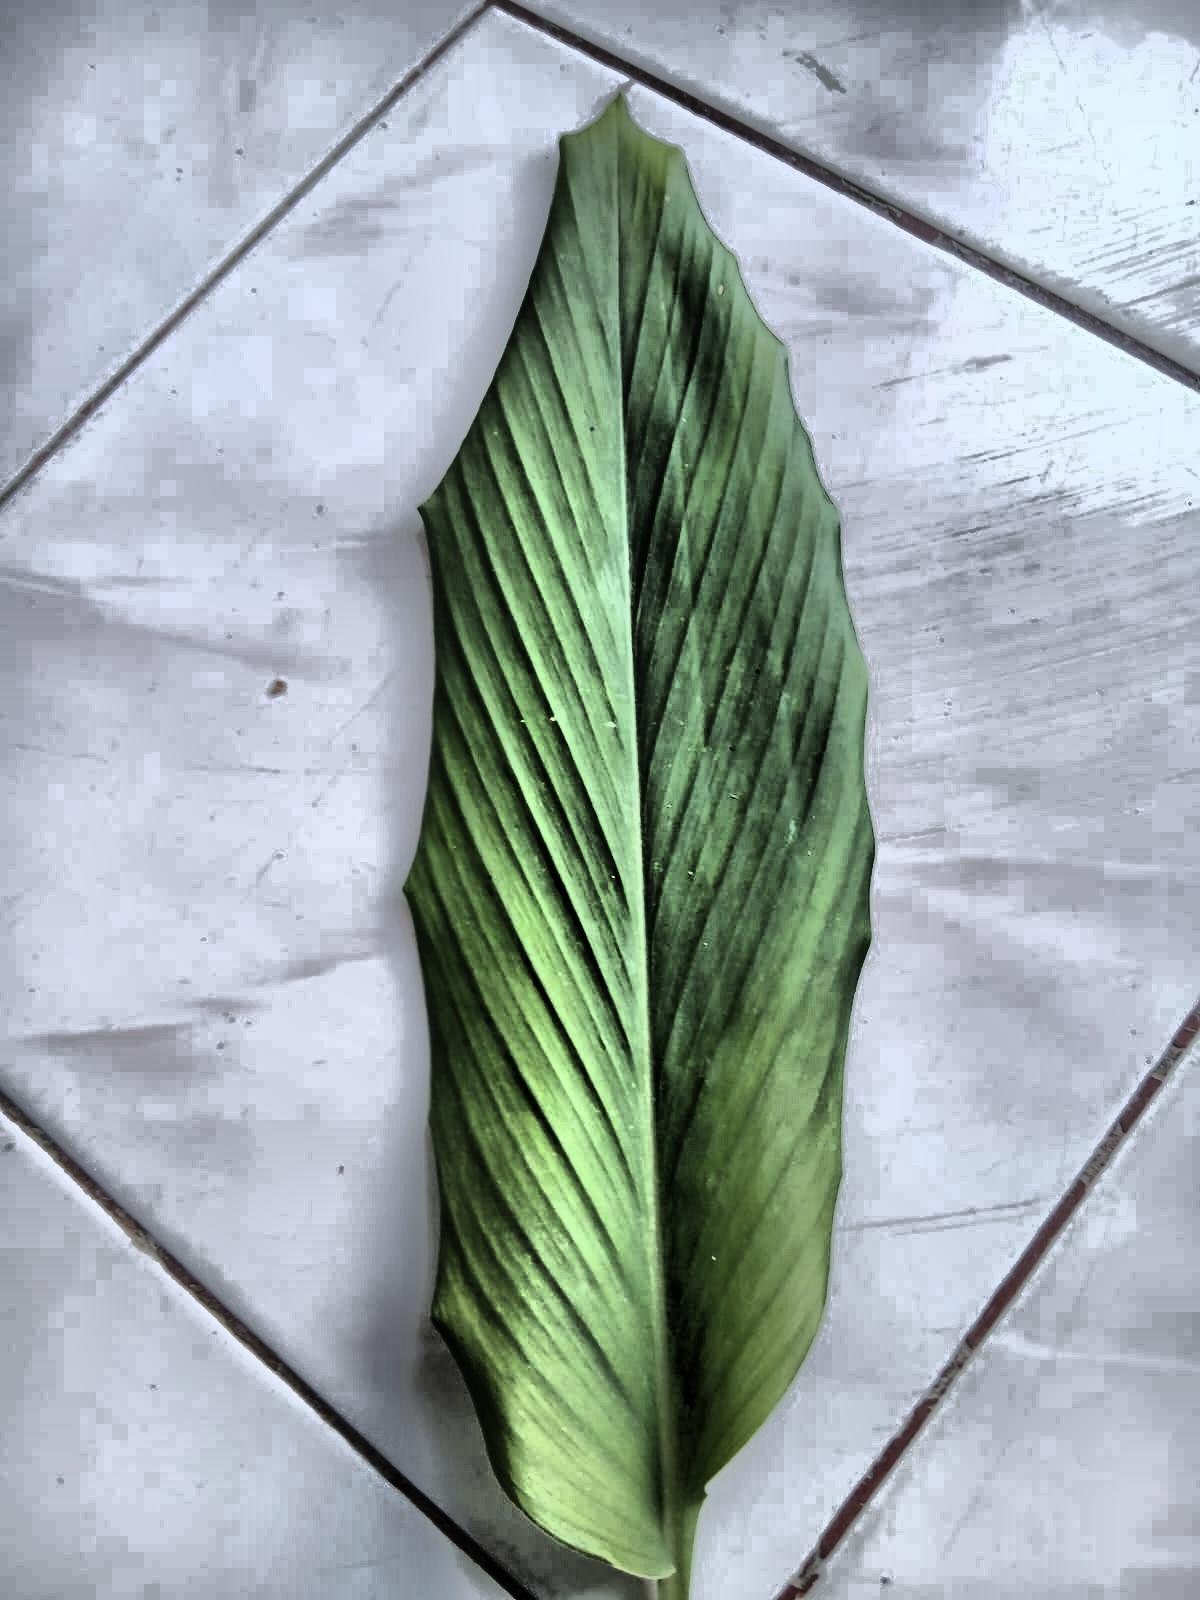daun kunyit: (405, 100, 874, 1599)
